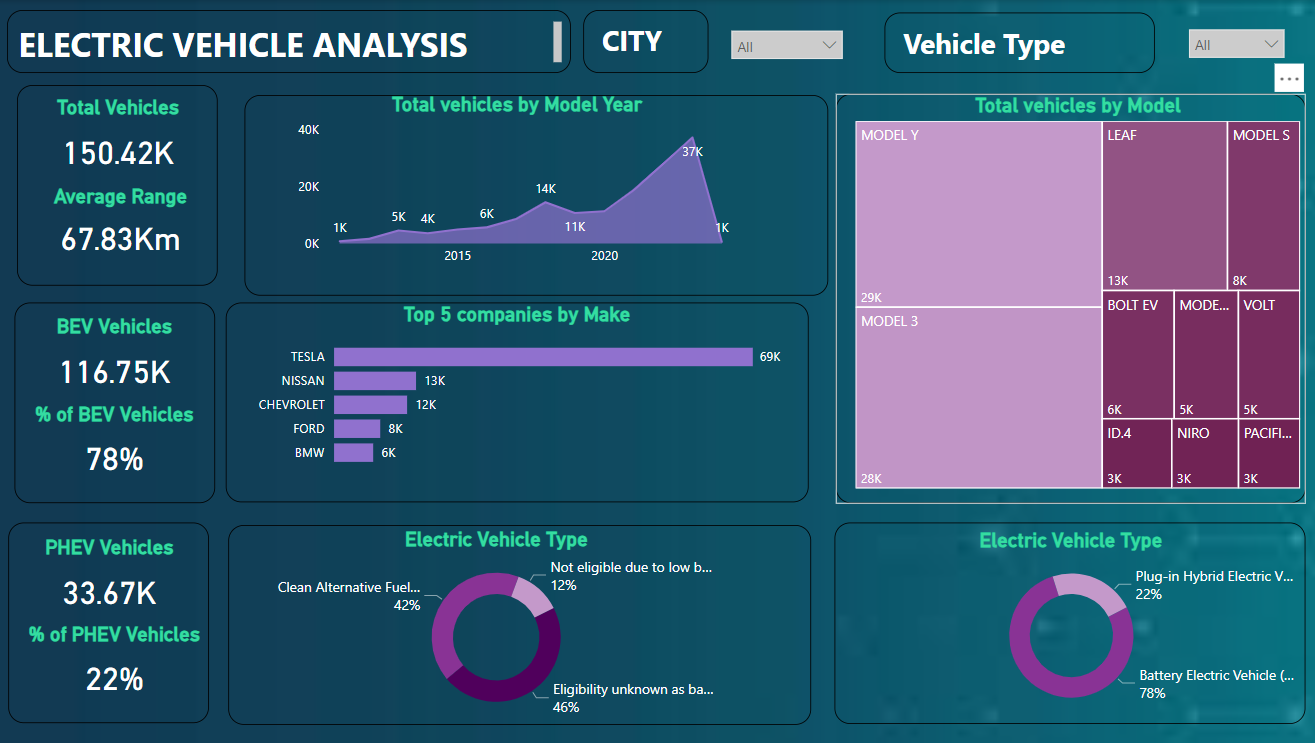

What the dashboard file says about the page in this screenshot:
{"tool":"powerbi","page":{"name":"Page 1","canvas":[1280,720],"ordinal":0},"visuals":[{"type":"textbox","box":[9.5,9.5,544,60.9],"z":0},{"type":"shape","box":[19.7,81.5,193.9,193.9],"z":1000},{"type":"card","title":"Total Vehicles","fields":{"Values":["Electric_Vehicle_Population_Data.Total vehicles"]},"box":[29.5,92.7,175.6,84.3],"z":2000},{"type":"card","title":"Average Range","fields":{"Values":["Electric_Vehicle_Population_Data.Avg_range"]},"box":[30.9,178.4,175.6,78.7],"z":3000},{"type":"shape","box":[16.3,291.4,193.9,193.9],"z":4000},{"type":"pieChart","title":"Electric Vehicle Type","fields":{"Category":["Electric_Vehicle_Population_Data.Electric Vehicle Type"],"Y":["Electric_Vehicle_Population_Data.Total vehicles"]},"box":[808,504.1,454.7,194.2],"z":5000},{"type":"shape","box":[11,504.4,193.9,193.9],"z":6000},{"type":"card","title":"BEV Vehicles","fields":{"Values":["Electric_Vehicle_Population_Data.BEV Vehicles"]},"box":[25.7,304.5,175.9,83.9],"z":7000},{"type":"card","title":"% of BEV Vehicles","fields":{"Values":["Electric_Vehicle_Population_Data.% of BEV"]},"box":[25.7,388.4,175.9,83.9],"z":8000},{"type":"card","title":"PHEV Vehicles","fields":{"Values":["Electric_Vehicle_Population_Data.PHEV Vehicles"]},"box":[20.3,517,175.9,83.9],"z":9000},{"type":"card","title":"% of PHEV Vehicles","fields":{"Values":["Electric_Vehicle_Population_Data.% of PHEV"]},"box":[25.7,600.9,175.9,83.9],"z":10000},{"type":"areaChart","fields":{"Category":["Electric_Vehicle_Population_Data.Model Year"],"Y":["Electric_Vehicle_Population_Data.Total vehicles"]},"box":[285.6,89.3,431.7,175.9],"z":12000},{"type":"treemap","fields":{"Group":["Electric_Vehicle_Population_Data.Model"],"Values":["Electric_Vehicle_Population_Data.Total vehicles"]},"box":[824.2,90.7,438.5,385.7],"z":13000},{"type":"clusteredBarChart","title":"Top 5 companies by Make","fields":{"Y":["Electric_Vehicle_Population_Data.Total vehicles"],"Category":["Electric_Vehicle_Population_Data.Make"]},"box":[242.4,291.9,518.6,168.8],"z":14000},{"type":"shape","box":[223.1,506.5,562,193],"z":15000},{"type":"shape","box":[220.7,291.9,562,193],"z":16000},{"type":"pieChart","title":"Electric Vehicle Type","fields":{"Category":["Electric_Vehicle_Population_Data.Clean Alternative Fuel Vehicle (CAFV) Eligibility"],"Y":["Electric_Vehicle_Population_Data.Total vehicles"]},"box":[265.3,508.9,433,190.6],"z":17000},{"type":"shape","box":[238.7,91.2,563,193.5],"z":17001},{"type":"slicer","fields":{"Values":["Electric_Vehicle_Population_Data.City"]},"box":[698.3,18.9,127.2,46],"z":17002},{"type":"textbox","box":[565.7,9.5,120.4,60.9],"z":17003},{"type":"slicer","fields":{"Values":["Electric_Vehicle_Population_Data.Electric Vehicle Type"]},"box":[1139.5,17.6,112.3,47.4],"z":17004},{"type":"textbox","box":[856.7,12.2,261.2,58.2],"z":17005},{"type":"shape","box":[809.3,90.7,453.4,395.2],"z":17006}]}

Visuals, with their boxes in screenshot pixels (x1, y1, x2, y2), scaled from the page's 1280x720 canvas onto the 1315x743 screenshot:
textbox: [x1=10, y1=10, x2=569, y2=73]
shape: [x1=20, y1=84, x2=219, y2=284]
"Total Vehicles" card: [x1=30, y1=96, x2=211, y2=183]
"Average Range" card: [x1=32, y1=184, x2=212, y2=265]
shape: [x1=17, y1=301, x2=216, y2=501]
"Electric Vehicle Type" pieChart: [x1=830, y1=520, x2=1297, y2=721]
shape: [x1=11, y1=521, x2=211, y2=721]
"BEV Vehicles" card: [x1=26, y1=314, x2=207, y2=401]
"% of BEV Vehicles" card: [x1=26, y1=401, x2=207, y2=487]
"PHEV Vehicles" card: [x1=21, y1=534, x2=202, y2=620]
"% of PHEV Vehicles" card: [x1=26, y1=620, x2=207, y2=707]
areaChart - Electric_Vehicle_Population_Data.Model Year x Electric_Vehicle_Population_Data.Total vehicles: [x1=293, y1=92, x2=737, y2=274]
treemap - Electric_Vehicle_Population_Data.Model x Electric_Vehicle_Population_Data.Total vehicles: [x1=847, y1=94, x2=1297, y2=492]
"Top 5 companies by Make" clusteredBarChart: [x1=249, y1=301, x2=782, y2=475]
shape: [x1=229, y1=523, x2=807, y2=722]
shape: [x1=227, y1=301, x2=804, y2=500]
"Electric Vehicle Type" pieChart: [x1=273, y1=525, x2=717, y2=722]
shape: [x1=245, y1=94, x2=824, y2=294]
slicer - Electric_Vehicle_Population_Data.City: [x1=717, y1=20, x2=848, y2=67]
textbox: [x1=581, y1=10, x2=705, y2=73]
slicer - Electric_Vehicle_Population_Data.Electric Vehicle Type: [x1=1171, y1=18, x2=1286, y2=67]
textbox: [x1=880, y1=13, x2=1148, y2=73]
shape: [x1=831, y1=94, x2=1297, y2=501]
